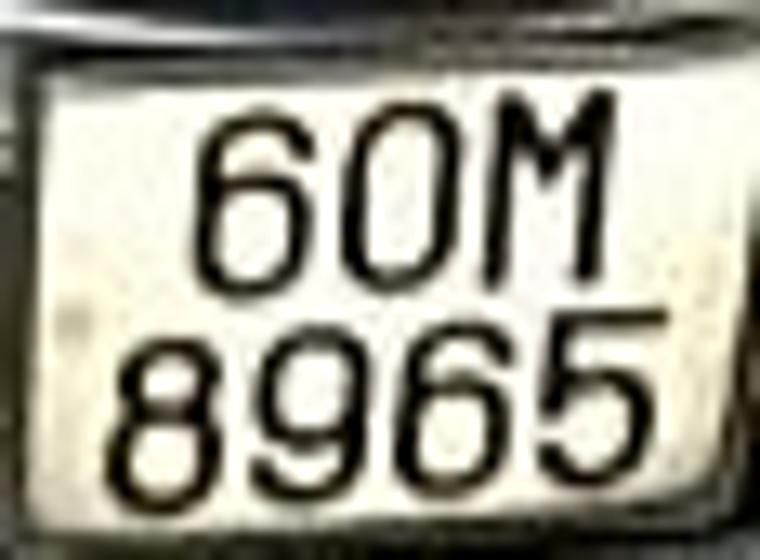0: (334, 99, 466, 303)
5: (533, 303, 674, 489)
6: (187, 99, 326, 309), (388, 317, 518, 499)
8: (100, 335, 228, 514)
9: (241, 320, 374, 506)
M: (480, 87, 619, 288)
